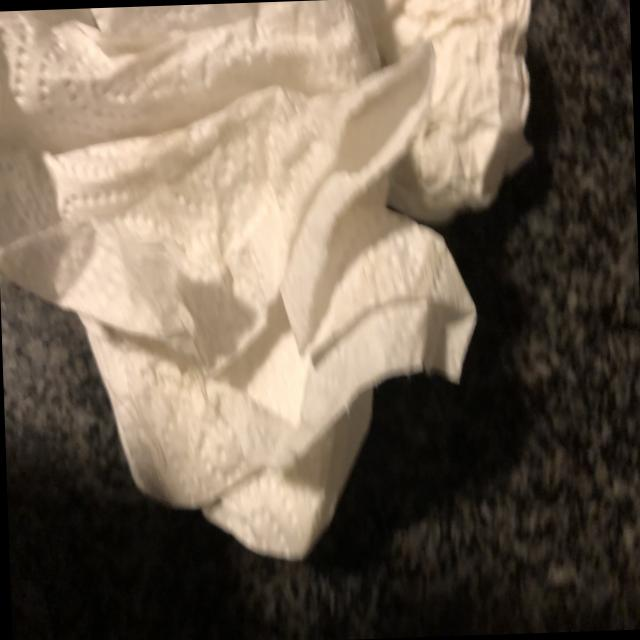organic waste: (0, 0, 448, 433), (66, 205, 488, 572), (363, 0, 544, 217)
